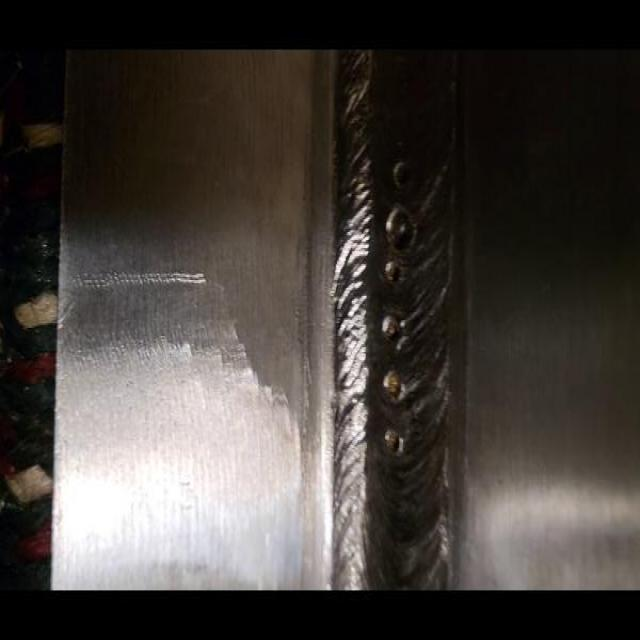Welding Line: (340, 60, 454, 583)
Workpiece: (69, 51, 640, 596)
porosity: (380, 158, 416, 453)
